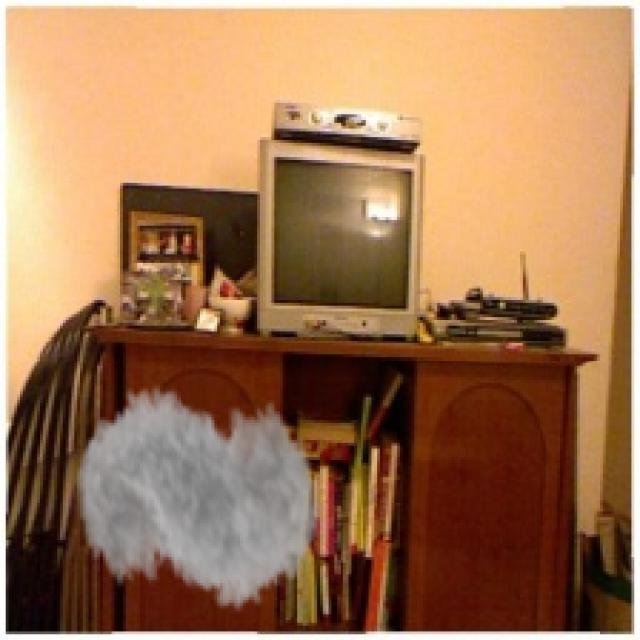smoke: (74, 357, 320, 632)
